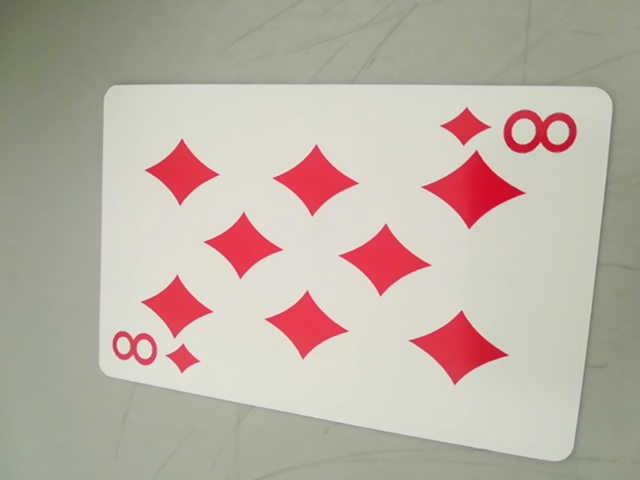fk 8: (439, 103, 577, 159), (108, 325, 199, 380)
